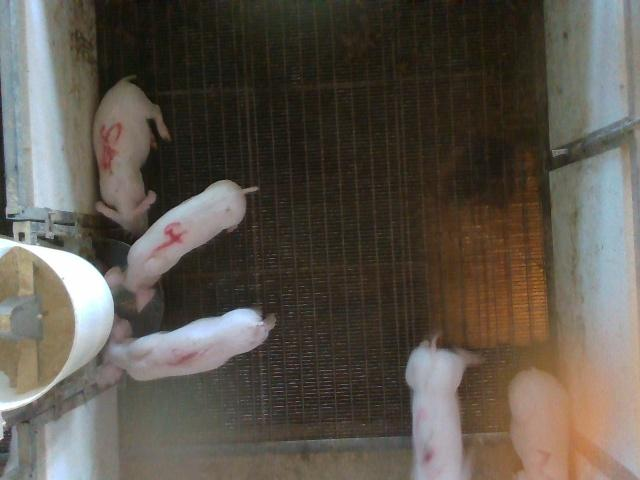pig-1: (98, 309, 275, 386)
pig-3: (405, 338, 479, 478)
pig-4: (105, 181, 254, 309)
pig-5: (92, 75, 170, 236)
